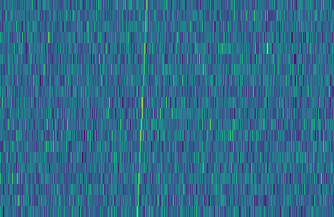signal: (131, 0, 150, 217)
